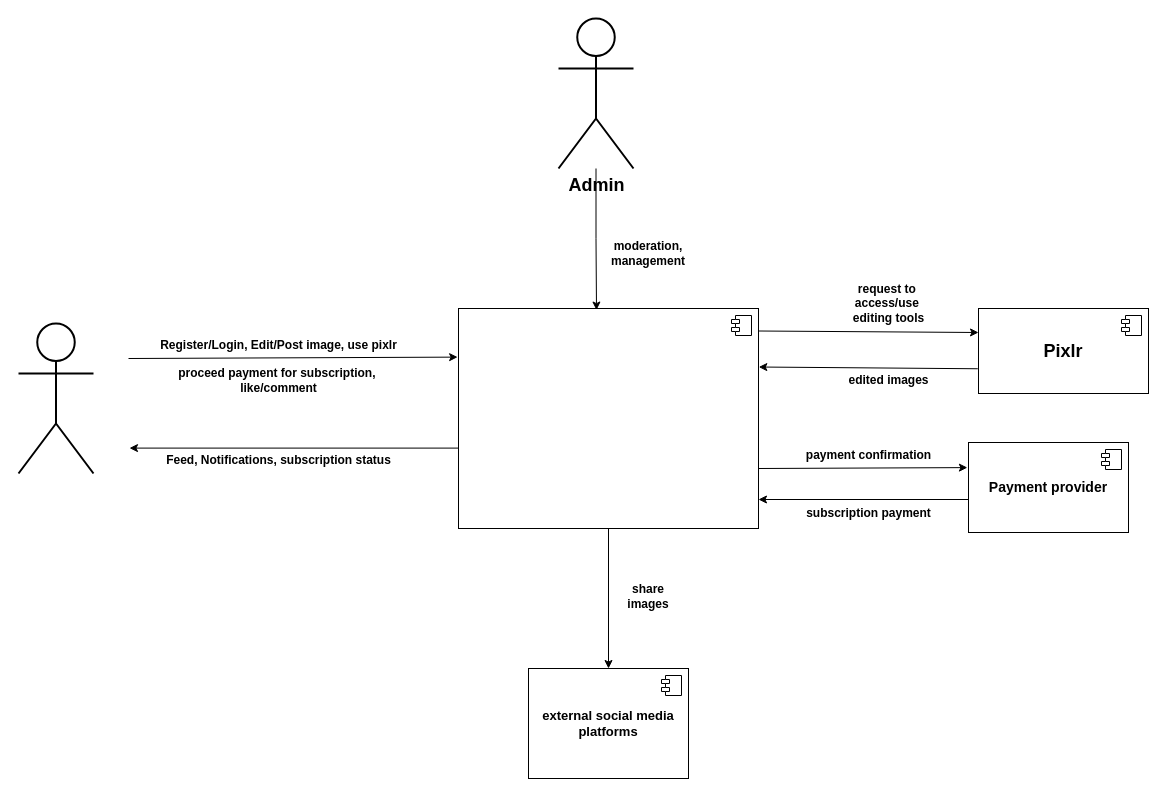
This 1166x796 diagram has some shape labels left out. The shapes that lost their labels are listed below. From the top down, each one's centre as x and y in pixels, then its label:
At pixel 55 398: "User".
At pixel 608 418: "Vividly".
